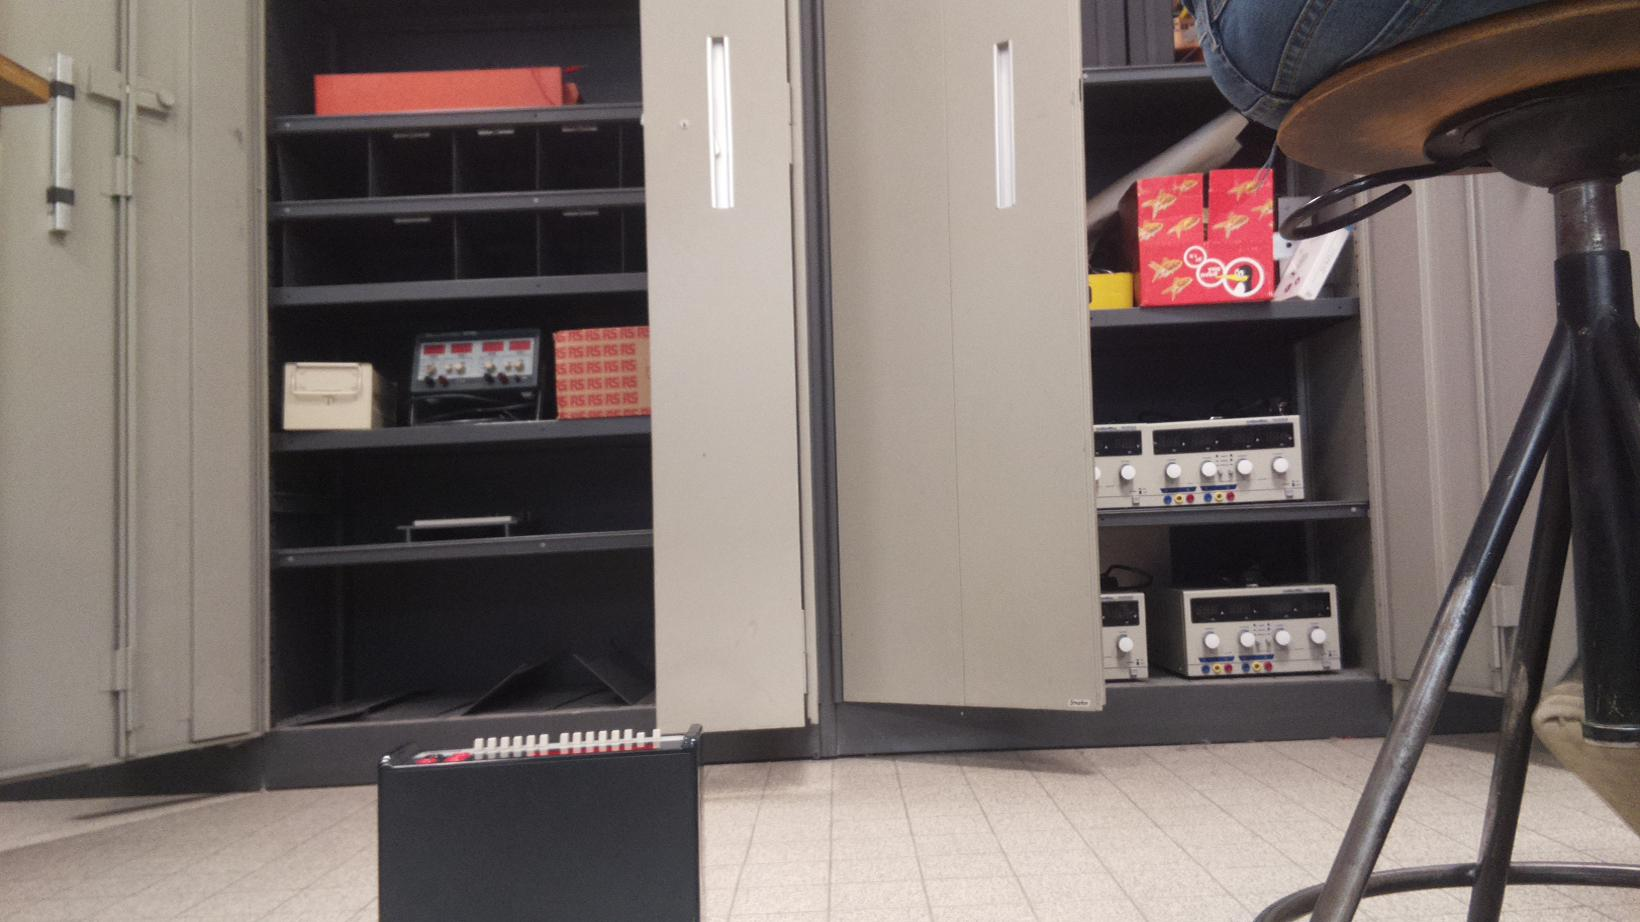medium: (373, 729, 707, 922)
